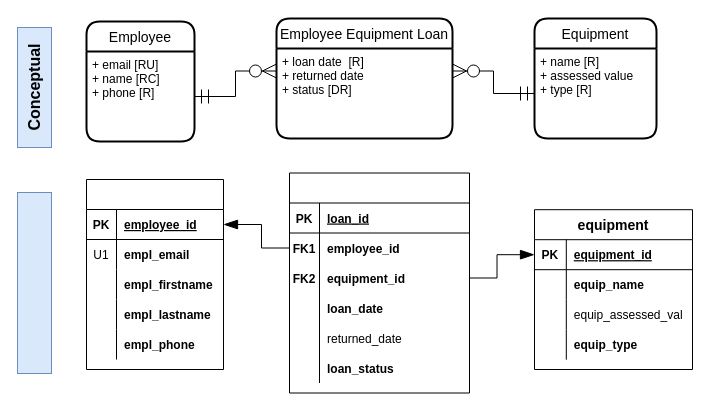
Some shapes in this 709 by 409 pixel diagram are drawn without their labels. Here are the shapes that lost their labels. From the top down, the box of each, then its label:
(16, 192, 52, 374): Logical
(86, 178, 224, 370): employees
(288, 172, 470, 393): empl_equip_loans
